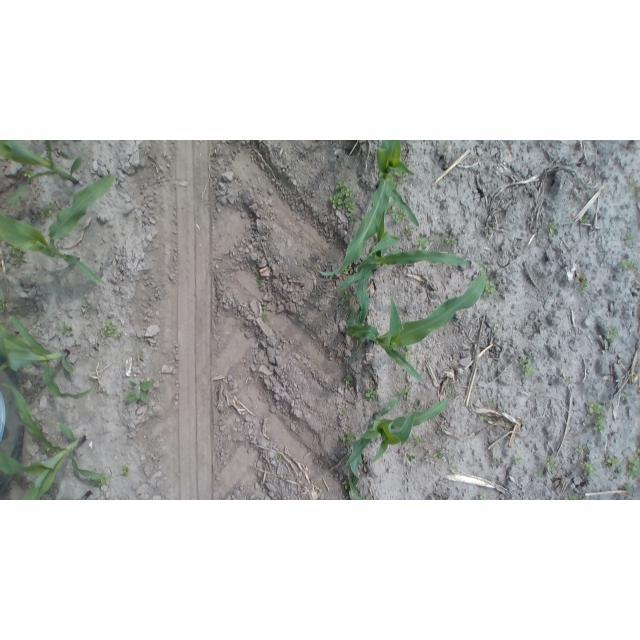Maize: (342, 264, 489, 384), (313, 141, 423, 276), (1, 172, 118, 287), (343, 389, 457, 497), (1, 383, 106, 495), (322, 229, 470, 300), (1, 311, 100, 401), (2, 141, 85, 208)
Weeds: (329, 178, 360, 219), (585, 400, 608, 435), (124, 379, 152, 403), (100, 319, 123, 339), (519, 356, 535, 380), (388, 201, 404, 225), (4, 246, 26, 263), (625, 454, 639, 478), (340, 427, 356, 447), (576, 274, 591, 295), (40, 202, 58, 218), (604, 326, 620, 342), (364, 387, 380, 403), (483, 280, 498, 297), (544, 455, 558, 473), (414, 235, 432, 249), (619, 257, 638, 270), (89, 476, 109, 488), (393, 171, 407, 188), (605, 454, 620, 469), (582, 460, 596, 476), (342, 374, 355, 391), (563, 492, 590, 500), (60, 322, 75, 336), (400, 344, 414, 358), (118, 464, 132, 478), (443, 235, 458, 248), (547, 221, 559, 236), (259, 310, 271, 324), (622, 231, 634, 245), (629, 177, 639, 193), (398, 386, 410, 399), (575, 444, 587, 456), (580, 215, 591, 228), (620, 388, 631, 401), (0, 297, 10, 311), (486, 399, 498, 410), (484, 222, 497, 232), (405, 452, 418, 462), (341, 290, 351, 303), (343, 479, 352, 493), (479, 413, 490, 424), (561, 375, 572, 386), (412, 435, 424, 445), (512, 455, 522, 466), (403, 224, 413, 235), (339, 407, 350, 417), (533, 469, 544, 479), (493, 457, 503, 467), (275, 453, 285, 463), (624, 484, 633, 495), (473, 493, 487, 500), (70, 402, 79, 412), (342, 266, 350, 277), (435, 451, 445, 459), (135, 352, 145, 360), (449, 466, 457, 475), (440, 141, 450, 148), (366, 496, 374, 500)
